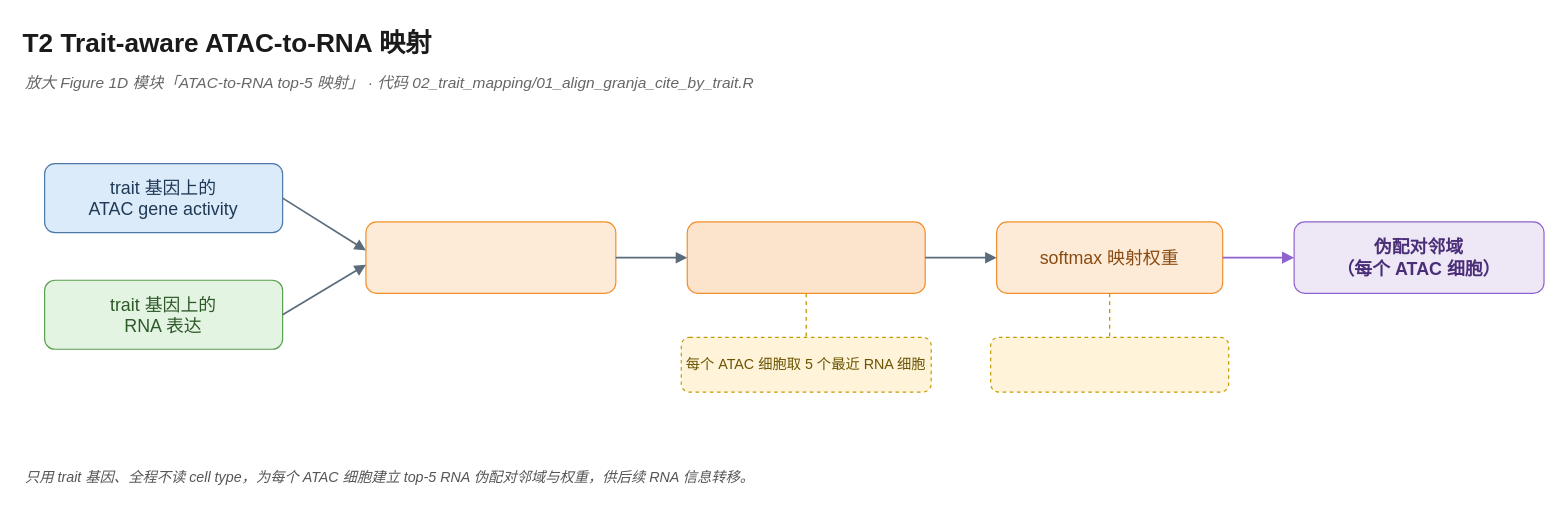
Image size: 1565x507. Some labels were removed from this diagram. Each missing label, with the centre of its shape:
"top-5 cosine 最近 RNA 细胞" goes at (805,257).
"trait gene z-score 单位向量（GWAS 加权）" goes at (490,257).
"权重 = cosine 距离的 softmax（逐细胞）" goes at (1109,364).
